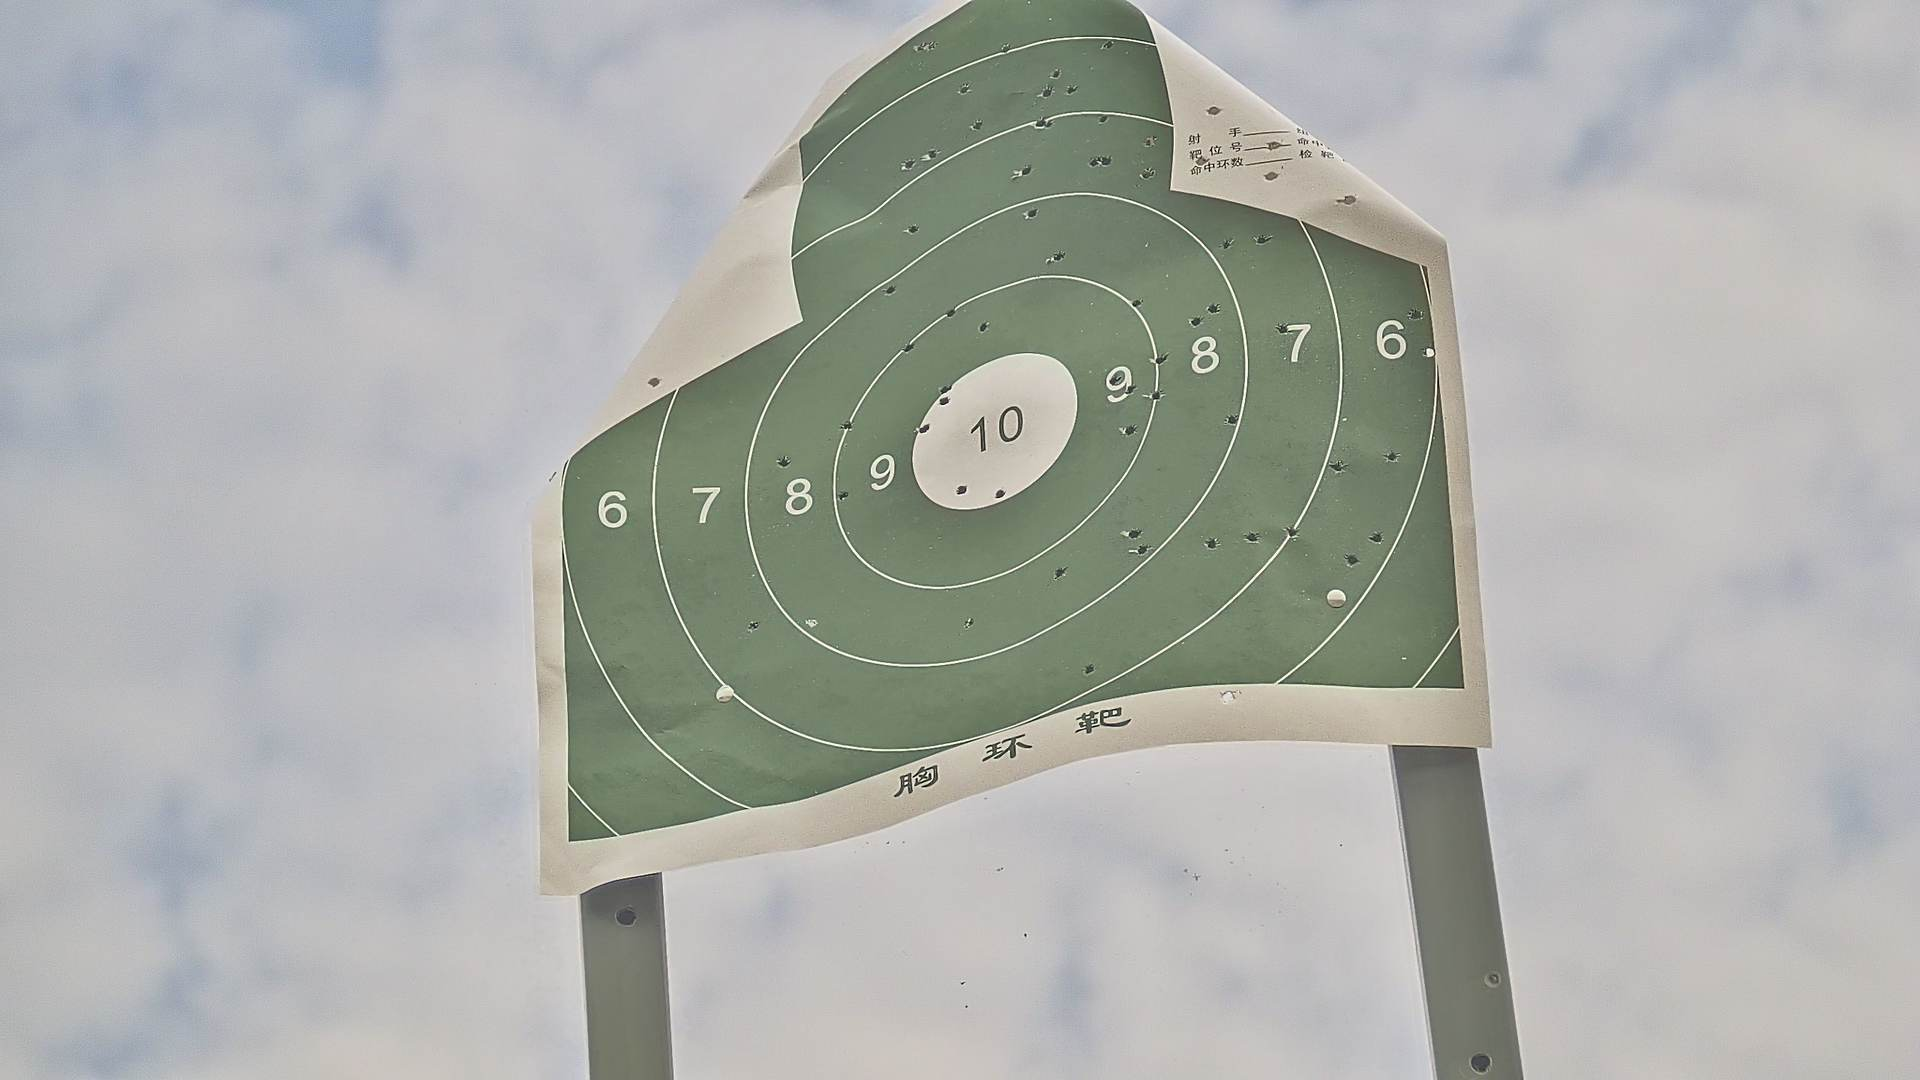hole: (1337, 193, 1357, 207), (1151, 349, 1167, 365), (1222, 687, 1238, 703), (1204, 105, 1222, 117), (645, 377, 665, 388), (1101, 153, 1114, 167), (1406, 306, 1419, 320), (1284, 525, 1298, 539), (1226, 413, 1240, 427), (1266, 138, 1280, 152), (1263, 171, 1280, 182), (957, 82, 971, 95), (1127, 526, 1141, 539), (924, 148, 939, 160), (1142, 165, 1154, 179), (1056, 248, 1067, 264), (902, 157, 914, 170), (1276, 320, 1288, 334), (1247, 531, 1261, 543), (1135, 542, 1149, 554), (1098, 40, 1113, 50), (1369, 530, 1383, 541), (1056, 563, 1067, 578), (1195, 156, 1209, 166), (1209, 301, 1218, 316), (1000, 44, 1011, 55), (1019, 164, 1031, 175), (1422, 345, 1433, 357), (1386, 450, 1398, 462), (902, 340, 914, 352), (919, 422, 931, 434), (1035, 117, 1046, 131), (1221, 237, 1232, 251), (1154, 390, 1164, 404), (1125, 423, 1135, 436), (1051, 69, 1062, 80), (1040, 88, 1051, 100), (1098, 112, 1109, 124), (1145, 136, 1156, 146), (909, 222, 919, 233), (1207, 537, 1217, 549), (1108, 372, 1118, 384), (1083, 663, 1095, 674), (843, 419, 855, 430), (993, 487, 1004, 498), (1027, 206, 1036, 219), (964, 616, 973, 629), (972, 117, 982, 128), (1255, 232, 1266, 243), (749, 620, 760, 630), (924, 42, 936, 51), (1044, 117, 1054, 129), (886, 284, 895, 295), (1333, 462, 1342, 473), (837, 491, 849, 500), (1189, 318, 1203, 326), (1127, 382, 1135, 396), (1067, 84, 1077, 94), (1348, 554, 1357, 564), (1131, 297, 1141, 307), (778, 458, 789, 467), (1091, 156, 1098, 167), (938, 396, 949, 404), (940, 384, 952, 390), (945, 309, 953, 318), (980, 320, 988, 330), (956, 485, 965, 493), (914, 44, 923, 50)
kernel: (990, 426, 992, 433)
target: (560, 1, 1466, 837)
ten: (906, 349, 1079, 509)
